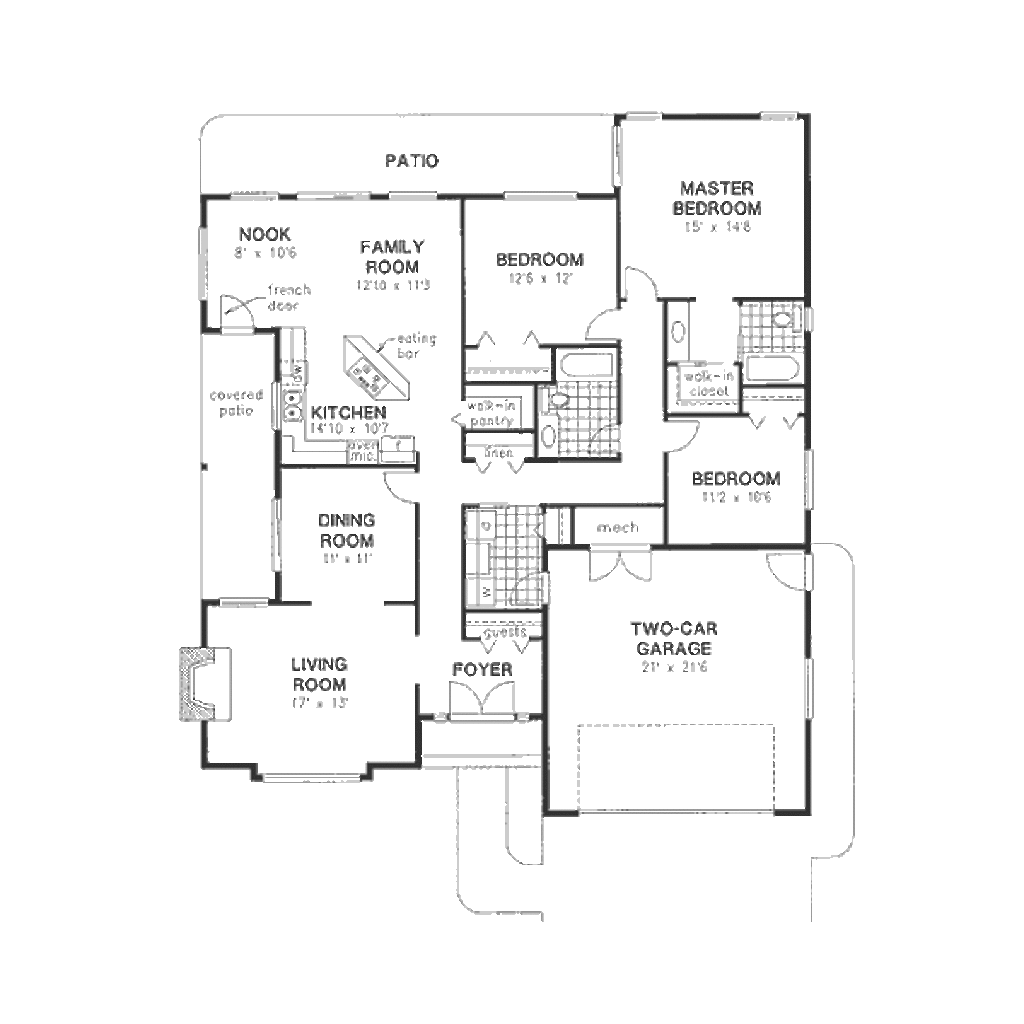door: (441, 666, 523, 724), (582, 540, 654, 587), (763, 544, 822, 596), (213, 290, 269, 336), (657, 408, 703, 461), (369, 465, 426, 506), (624, 260, 676, 302), (568, 308, 621, 343)
kitchen_bar: (336, 323, 418, 413)
large_sink: (772, 293, 821, 338), (533, 379, 576, 418)
small_sink: (662, 300, 690, 363), (531, 416, 569, 461)
tub: (743, 348, 813, 387), (553, 341, 621, 381)
twin_sink: (274, 387, 308, 438)
window: (295, 181, 383, 212), (749, 102, 814, 134), (501, 188, 585, 207), (256, 771, 367, 785), (219, 592, 271, 616), (618, 105, 667, 125)
